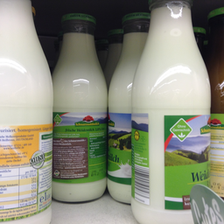milk: (132, 2, 211, 224), (1, 1, 55, 224), (50, 14, 108, 202), (110, 14, 155, 216)
